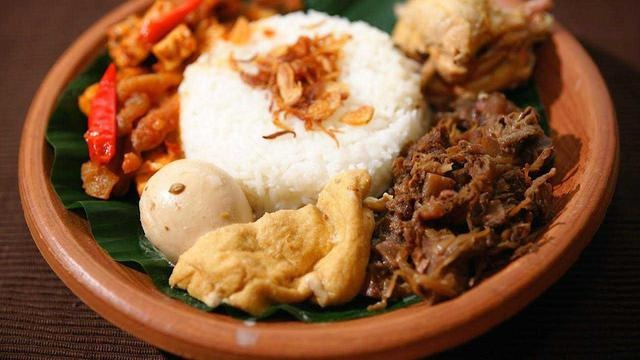gudeg: (79, 1, 562, 310)
